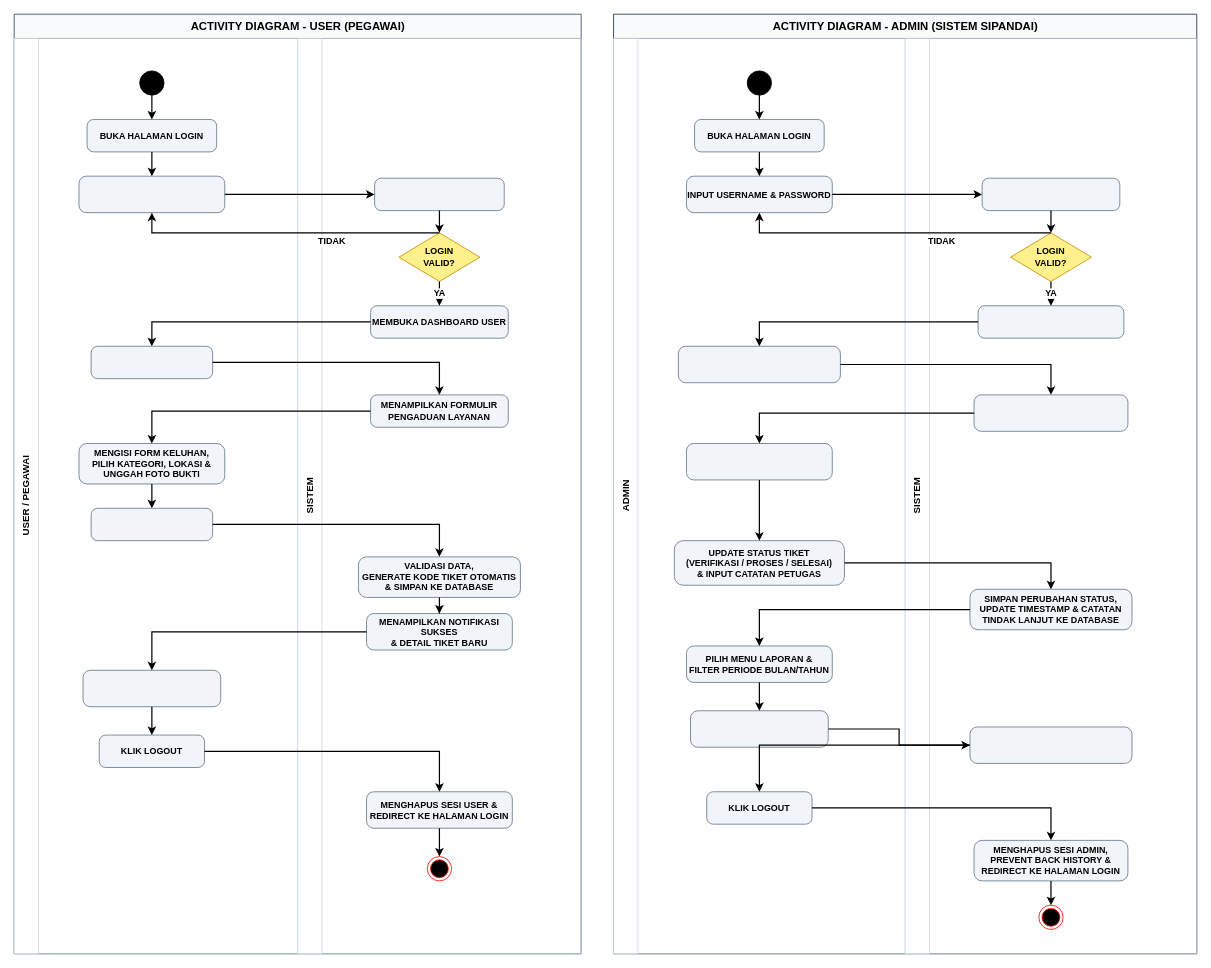
Some shapes in this 1211 by 968 pixel diagram are drawn without their labels. The shapes that lost their labels are listed below. From the top down, each one's centre as x and y in pixels, then its label:
At point (151, 194): "INPUT USERNAME / NIP & PASSWORD".
At point (439, 194): "VALIDASI AUTENTIKASI".
At point (1050, 194): "VALIDASI AUTENTIKASI & HAK AKSES ROLE ADMIN".
At point (1050, 321): "MEMBUKA DASHBOARD ADMIN (6 KARTU KPI & GRAFIK DONUT)".
At point (151, 362): "PILIH MENU BUAT PENGADUAN".
At point (759, 364): "MONITORING DASHBOARD ANALITIK & FILTER STATISTIK (AJAX)".
At point (1050, 412): "MENAMPILKAN DAFTAR PENGADUAN & DETAIL INFORMASI TIKET".
At point (759, 461): "MEMILIH TIKET PENGADUAN & PERIKSA DETAIL KELUHAN".
At point (151, 524): "KLIK KIRIM PENGADUAN".
At point (151, 688): "MENERIMA NOMOR TIKET & MEMANTAU RIWAYAT STATUS".
At point (759, 728): "KLIK CETAK PDF RESMI / EKSPOR EXCEL (.XLS)".
At point (1050, 744): "GENERATE DOKUMEN LAPORAN PDF (KOP SURAT PLN A4) / FILE EXCEL".
